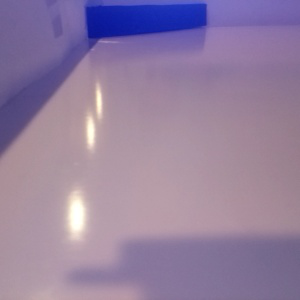zone: (86, 3, 208, 38)
